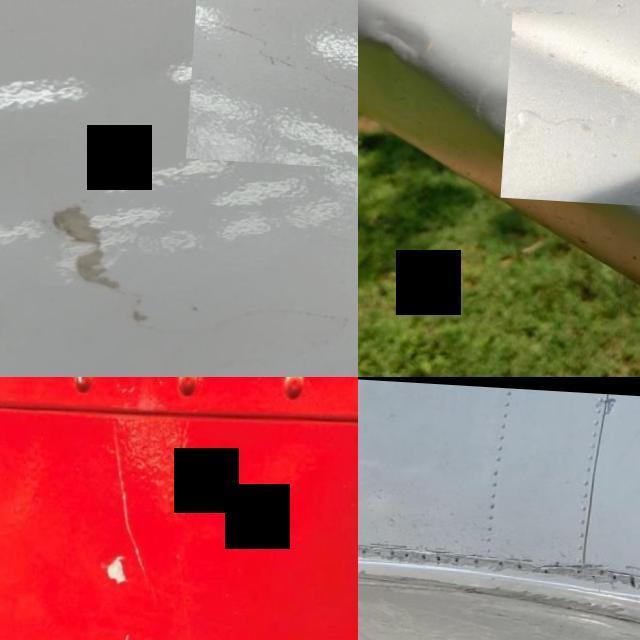Crack: (189, 0, 358, 168), (535, 557, 611, 573)
Dent: (506, 9, 640, 209), (364, 0, 449, 75), (117, 424, 155, 580), (111, 552, 132, 582)
